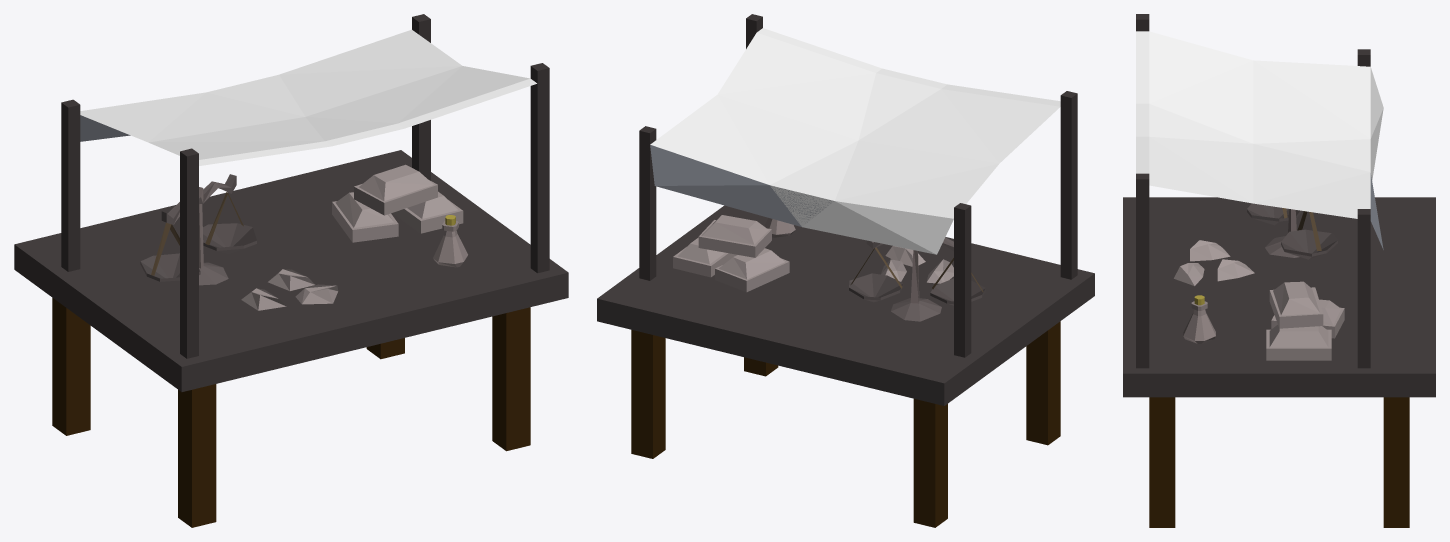
File: obj_silver_stall_2_0.obj
3 renders of one model, left to right at view 1: azimuth 30°, elevation 25°; view 2: azimuth 150°, elevation 25°; view 3: azimuth 270°, elevation 25°, orthographic. The views are drawn at different scales.
Bounding box in the file's own units: 2 × 1.88 × 1.5.
